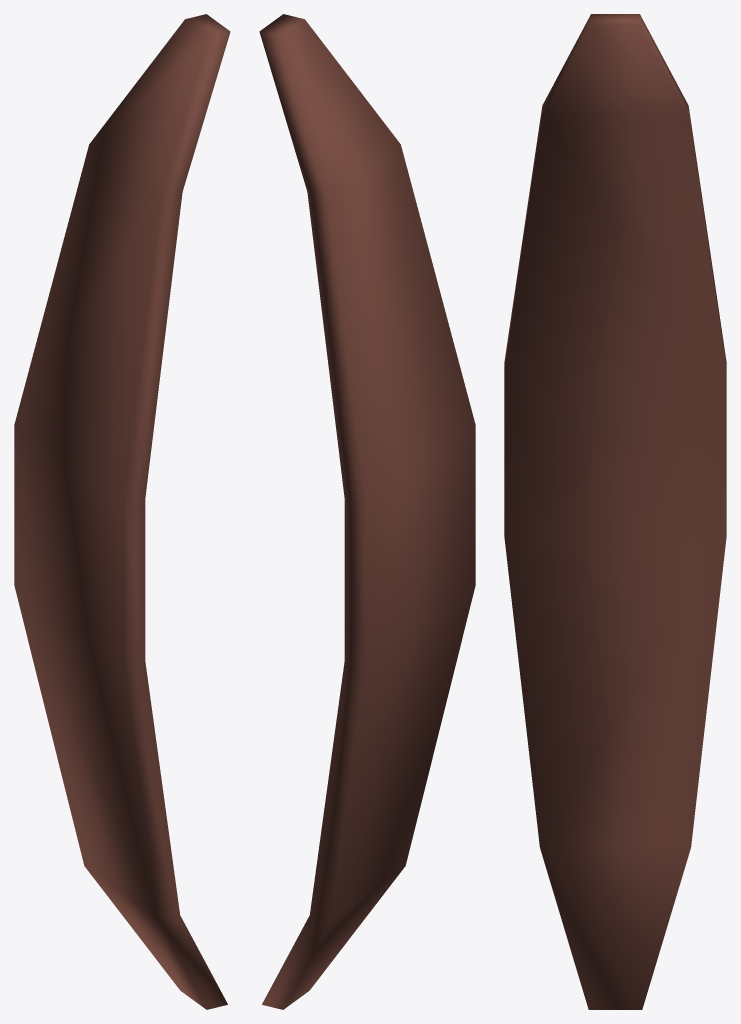
File: SweetPotatoPeel.obj
3 views of the same model, side by side, from view 1: azimuth 30°, elevation 25°; view 2: azimuth 150°, elevation 25°; view 3: azimuth 270°, elevation 25° (orthographic).
Parts seen in each view (by area): view 1: avocado.001; view 2: avocado.001; view 3: avocado.001.
Part boxes in pixels (x1,y1,x2,y2): avocado.001: (14,14,230,1009); avocado.001: (259,14,475,1009); avocado.001: (504,14,726,1009).
Bounding box in the file's own units: 0.052 × 0.3227 × 0.0659.
